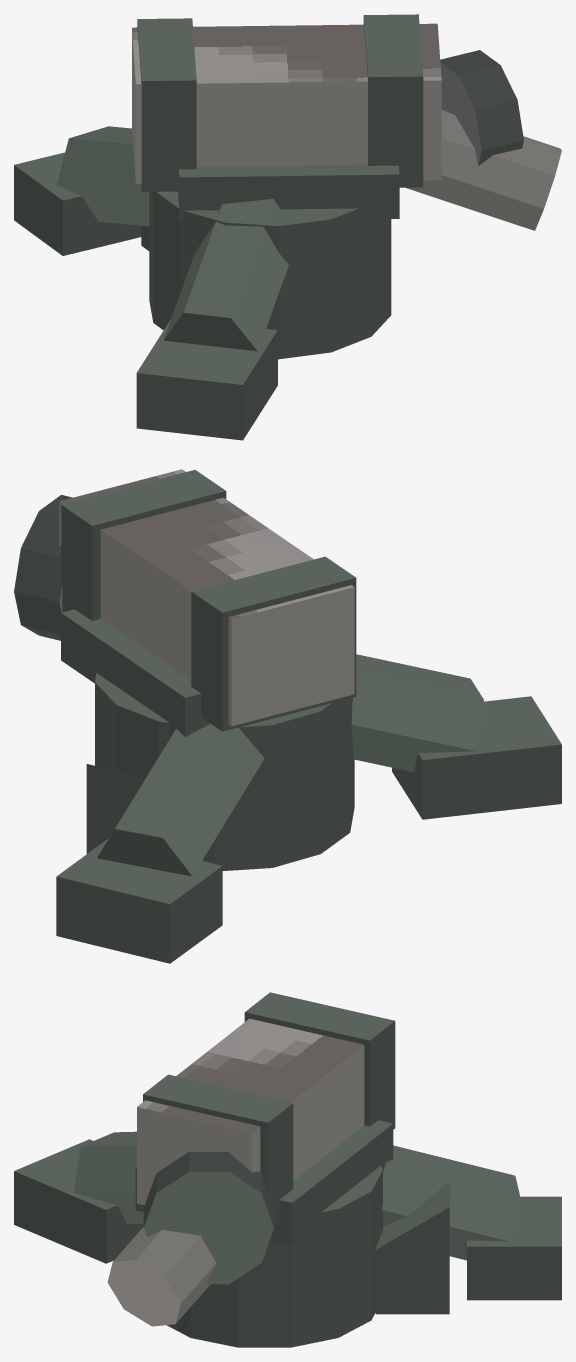
File: Building_AncientSecurityTurret__D.glb
3 renders of one model, top to bottom at view 1: azimuth 30°, elevation 25°; view 2: azimuth 150°, elevation 25°; view 3: azimuth 270°, elevation 25°, orthographic. The views are drawn at different scales.
Parts seen in each view (by area): view 1: AncientSecurityTurret__D; view 2: AncientSecurityTurret__D; view 3: AncientSecurityTurret__D.
Part boxes in pixels (x1,y1,x2,y2): AncientSecurityTurret__D: (14, 14, 561, 440); AncientSecurityTurret__D: (14, 469, 561, 963); AncientSecurityTurret__D: (14, 992, 561, 1347).
Size of the model in its own units: 0.8726 by 0.46 by 0.9245.
1 material, 1 textured.
